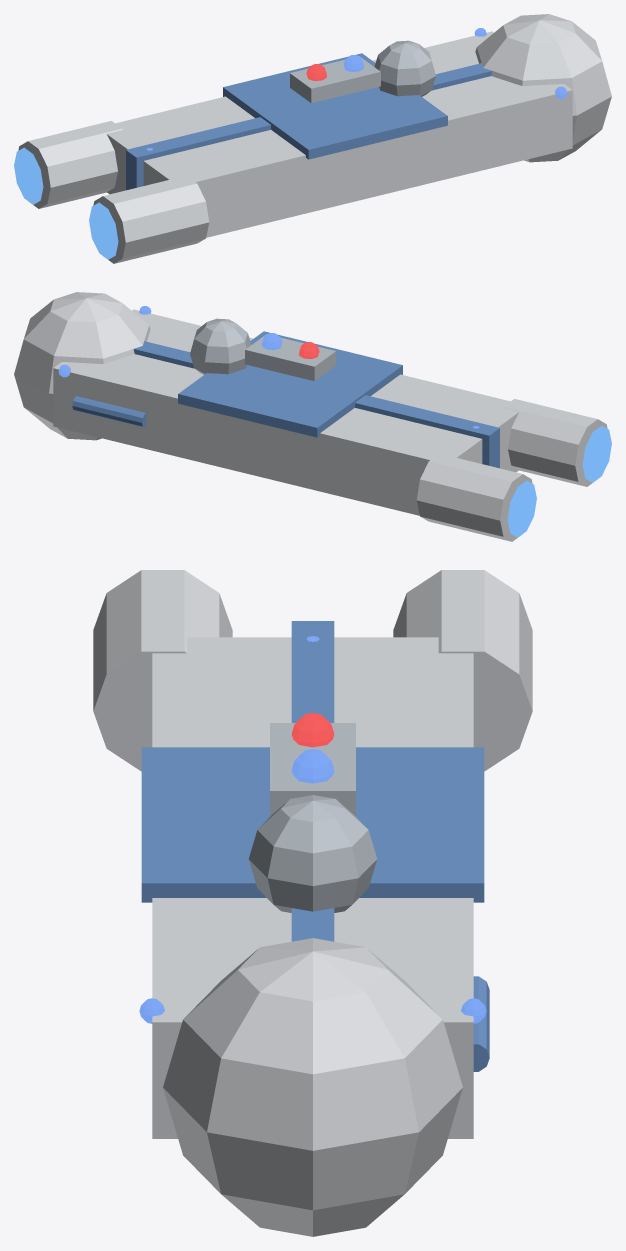
Rendered from police_frigate.glb.
3 views of the same model, one above another, from view 1: azimuth 30°, elevation 25°; view 2: azimuth 150°, elevation 25°; view 3: azimuth 270°, elevation 25° (orthographic). The views are drawn at different scales.
Parts seen in each view (by area): view 1: Hull, Stripe2, Nose, Eng-1, Eng1, Stripe1, Scanner, BeaconBar, Glow1, Glow-1; view 2: Hull, Stripe2, Nose, Eng1, Eng-1, Stripe1, Scanner, BeaconBar, Glow-1, Glow1, Gun; view 3: Nose, Hull, Stripe2, Eng-1, Eng1, Scanner, Stripe1, BeaconBar, Gun, BlueLight, RedLight.
Boxes of the visible parts, x1,y1,x2,y2 form: Hull: (107, 31, 572, 237); Stripe2: (223, 53, 447, 159); Nose: (475, 14, 611, 162); Eng-1: (93, 175, 209, 263); Eng1: (18, 121, 122, 208); Stripe1: (126, 63, 492, 190); Scanner: (374, 40, 435, 96); BeaconBar: (290, 56, 380, 103); Glow1: (14, 147, 43, 204); Glow-1: (89, 202, 118, 259); Hull: (53, 309, 518, 515); Stripe2: (178, 331, 402, 437); Nose: (14, 292, 150, 440); Eng1: (416, 453, 532, 541); Eng-1: (503, 399, 607, 486); Stripe1: (133, 341, 499, 468); Scanner: (190, 318, 251, 374); BeaconBar: (245, 334, 335, 381); Glow-1: (582, 425, 611, 482); Glow1: (507, 480, 536, 537); Gun: (72, 396, 145, 427); Nose: (163, 938, 462, 1236); Hull: (152, 637, 473, 1138); Stripe2: (141, 747, 484, 902); Eng-1: (93, 570, 232, 771); Eng1: (393, 570, 532, 771); Scanner: (249, 795, 376, 912); Stripe1: (291, 621, 334, 941); BeaconBar: (270, 723, 355, 816); Gun: (473, 976, 489, 1071); BlueLight: (291, 749, 334, 783); RedLight: (291, 713, 334, 747).
Bounding box in the file's own units: 1.16 × 0.3 × 0.41.
